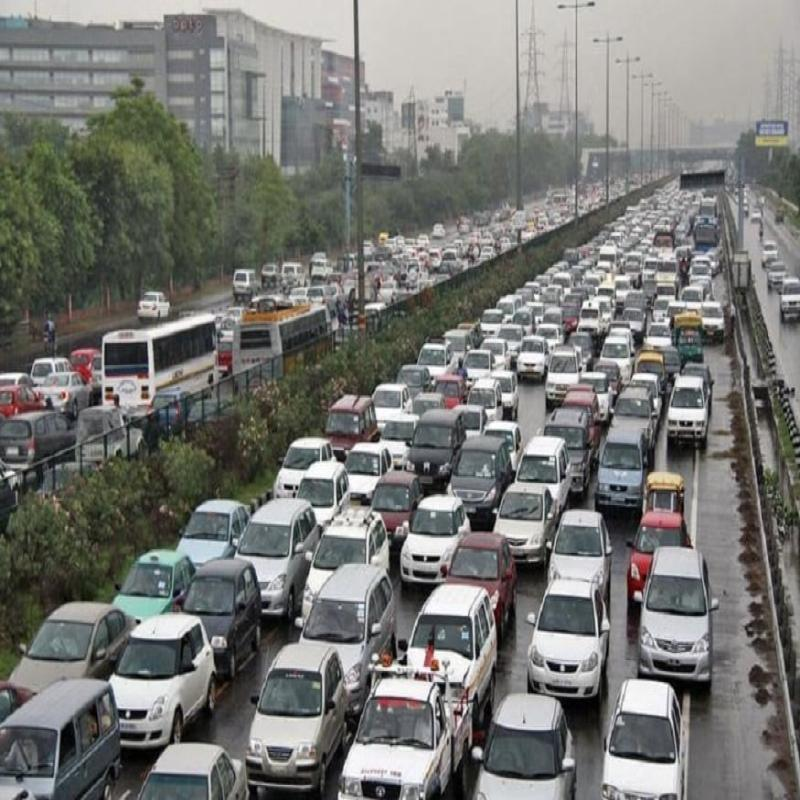auto: (463, 692, 584, 794), (603, 679, 683, 800)
